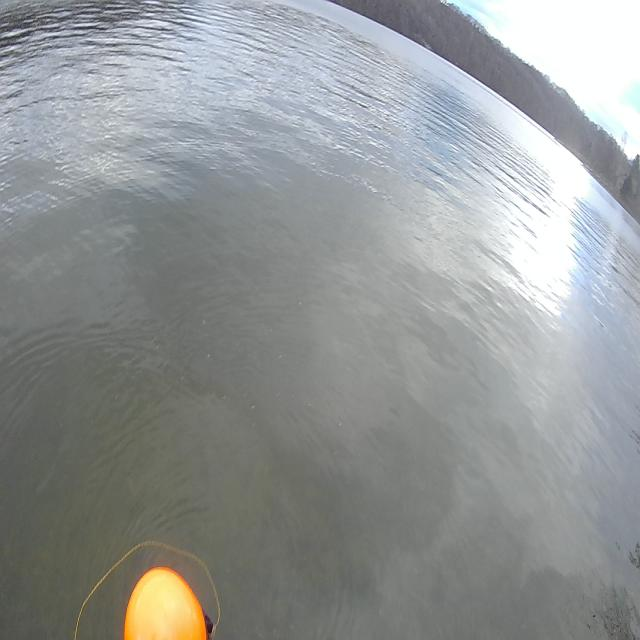Buoy: (120, 559, 216, 640)
